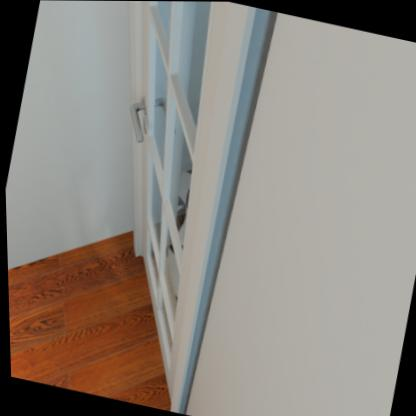Wooden floor: (6, 232, 167, 411)
